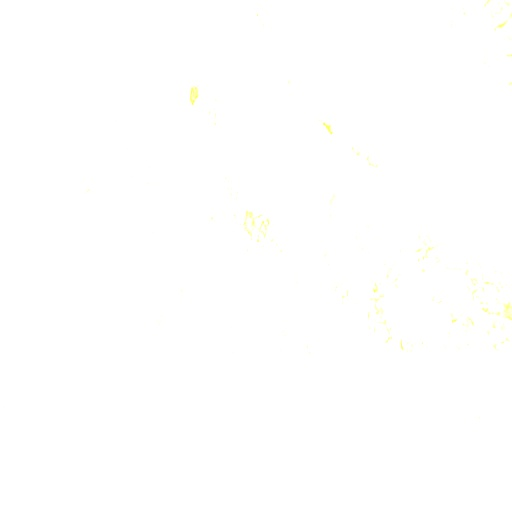Angular Leafspot: (0, 67, 511, 444)
